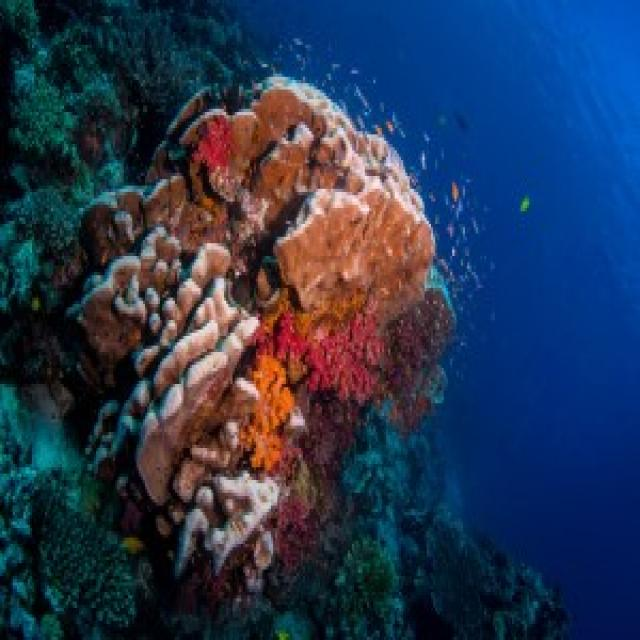Healthy: (86, 225, 278, 574), (182, 78, 408, 219), (280, 183, 434, 311), (33, 465, 135, 631), (259, 311, 381, 404), (383, 289, 453, 427), (242, 356, 293, 471), (300, 388, 357, 487), (278, 487, 312, 567)
